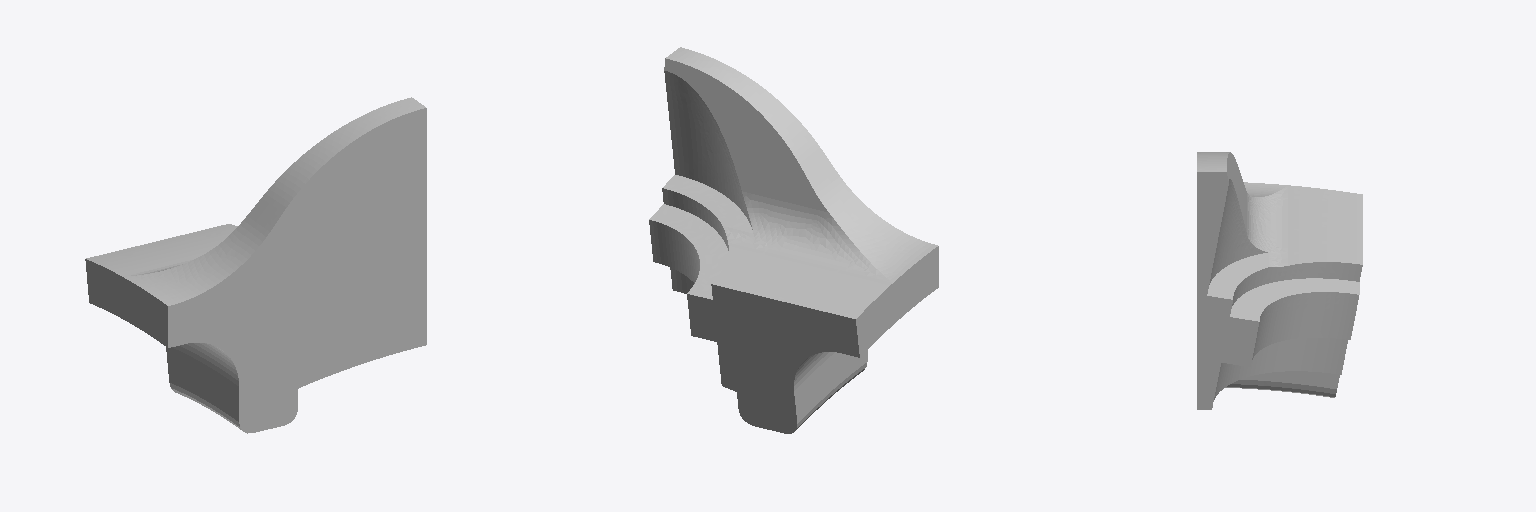
Rendered from something.obj.
3 renders of one model, left to right at view 1: azimuth 30°, elevation 25°; view 2: azimuth 150°, elevation 25°; view 3: azimuth 270°, elevation 25°, orthographic.
Bounding box in the file's own units: 4.83 × 5.24 × 2.68.